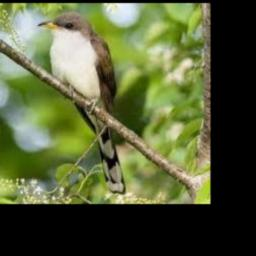Cuckoo: (37, 13, 125, 194)
